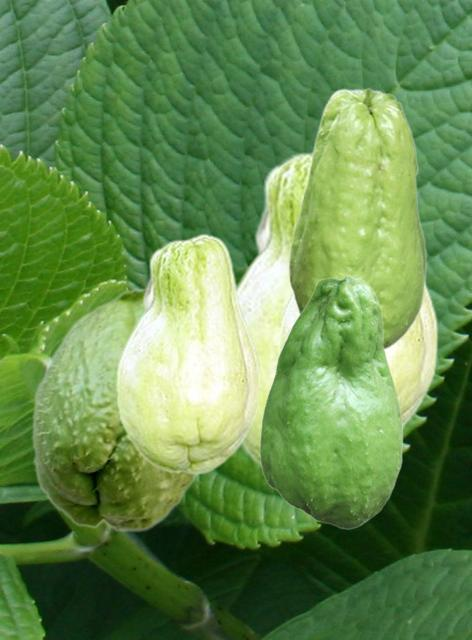sayote: (237, 148, 414, 471), (31, 286, 198, 532), (287, 87, 427, 350), (259, 274, 402, 528), (115, 233, 259, 474), (277, 278, 437, 428)
